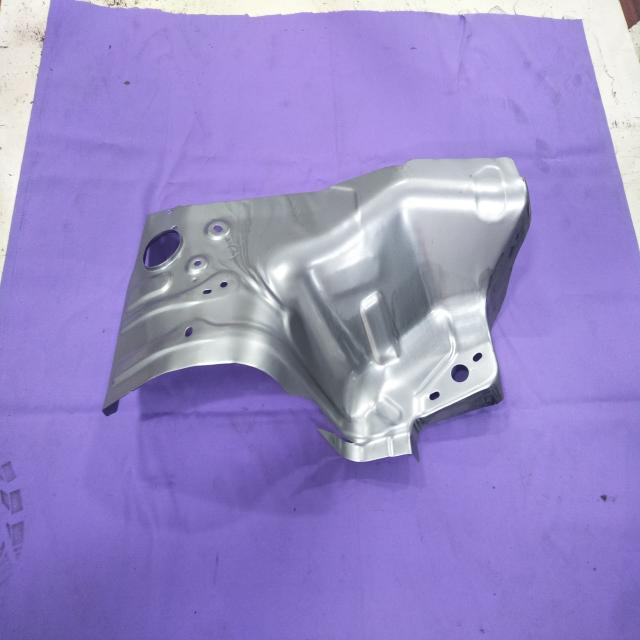Defect: (287, 385, 370, 449)
